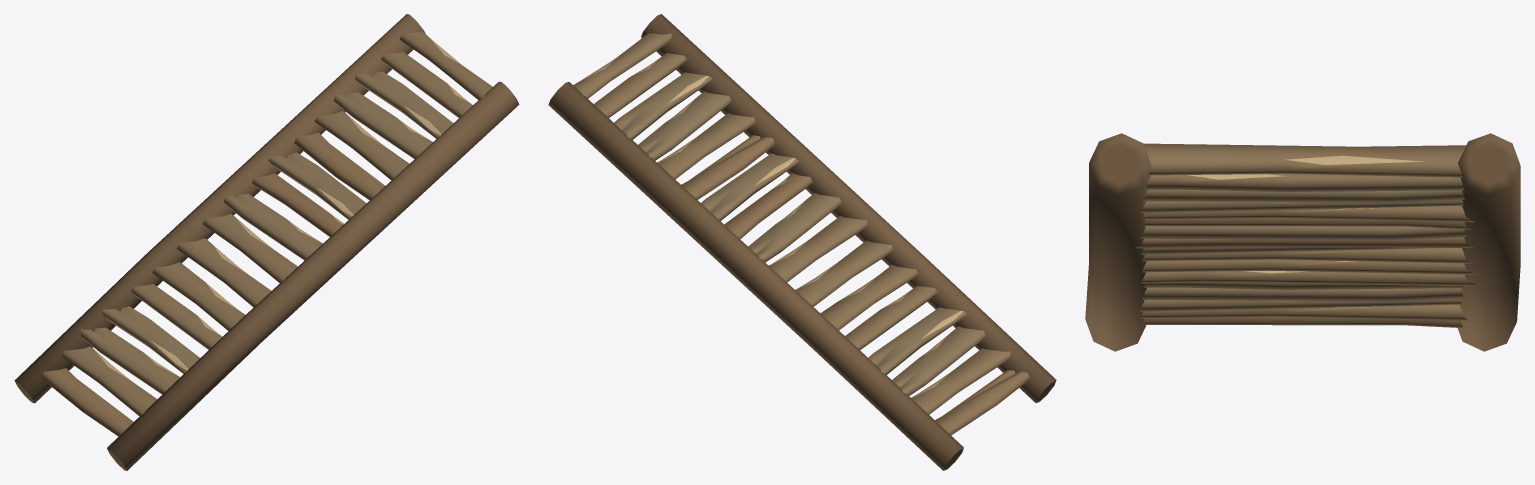
Rendered from rpgpp_ag_stairs_interior_02a_3m.fbx.
3 views of the same model, side by side, from view 1: azimuth 30°, elevation 25°; view 2: azimuth 150°, elevation 25°; view 3: azimuth 270°, elevation 25° (orthographic). The views are drawn at different scales.
Visible parts, largest first — view 1: rpgpp_ag_stairs_interior_02a_3m; view 2: rpgpp_ag_stairs_interior_02a_3m; view 3: rpgpp_ag_stairs_interior_02a_3m.
Boxes of the visible parts, x1,y1,x2,y2 form: rpgpp_ag_stairs_interior_02a_3m: (14, 14, 519, 470); rpgpp_ag_stairs_interior_02a_3m: (548, 14, 1056, 470); rpgpp_ag_stairs_interior_02a_3m: (1085, 133, 1520, 351).
Size of the model in its own units: 4.83 by 3.35 by 2.24.
